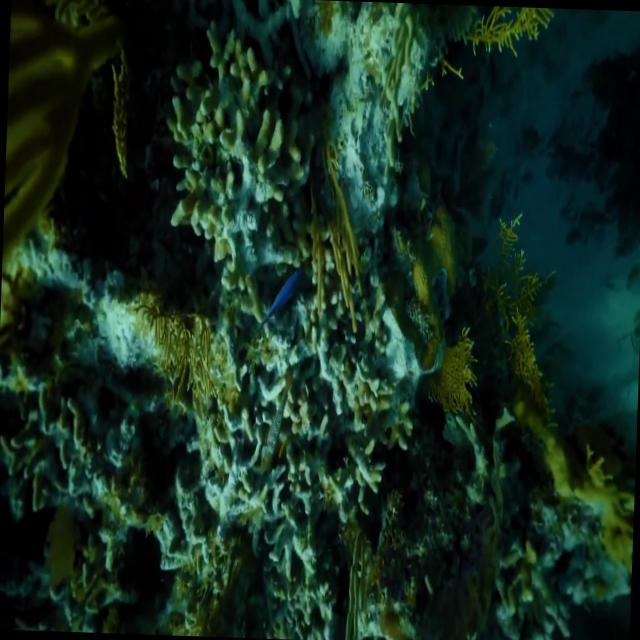fish: (253, 260, 307, 340)
